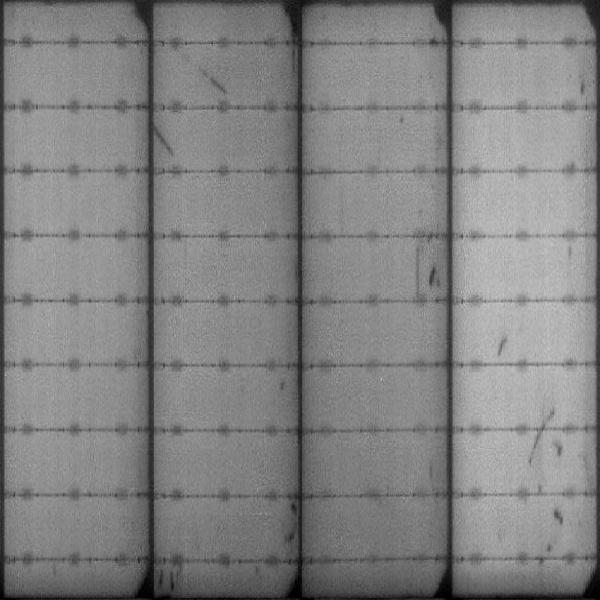scratch: (189, 54, 234, 99), (527, 404, 558, 468), (414, 248, 442, 298), (151, 123, 178, 161), (158, 563, 177, 593)
